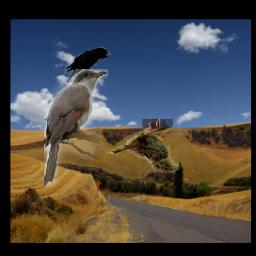Crow: (64, 48, 111, 84)
Cuckoo: (44, 70, 108, 188)
Sparrow: (106, 120, 180, 173)
